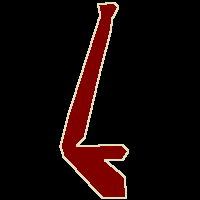tie: (60, 2, 128, 198)
